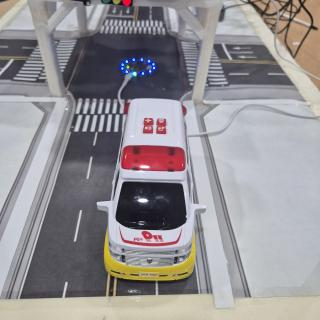Ambulance: (97, 99, 207, 281)
